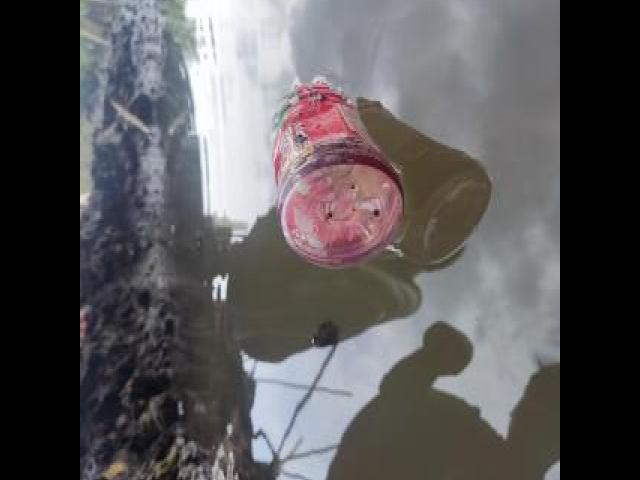Bottle: (266, 67, 412, 274)
